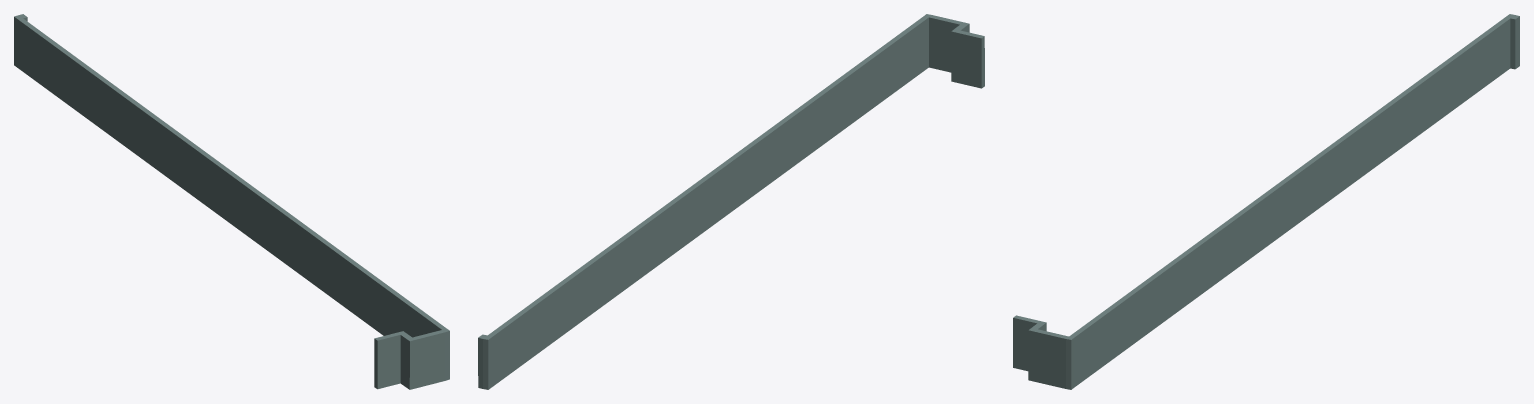
File: UedaCampusEntranceGate_wallR.fbx
The picture shows the model from 3 angles, left to right: view 1: azimuth 30°, elevation 25°; view 2: azimuth 150°, elevation 25°; view 3: azimuth 330°, elevation 25°; orthographic projection. The views are drawn at different scales.
Visible parts, largest first — view 1: UedaCampusEntranceGate_wallR; view 2: UedaCampusEntranceGate_wallR; view 3: UedaCampusEntranceGate_wallR.
Part boxes in pixels (box(x1,y1,x2,y2)): UedaCampusEntranceGate_wallR: box(14, 14, 449, 389); UedaCampusEntranceGate_wallR: box(478, 14, 984, 389); UedaCampusEntranceGate_wallR: box(1013, 14, 1519, 389).
Bounding box in the file's own units: 2.65 × 1.78 × 28.66.
